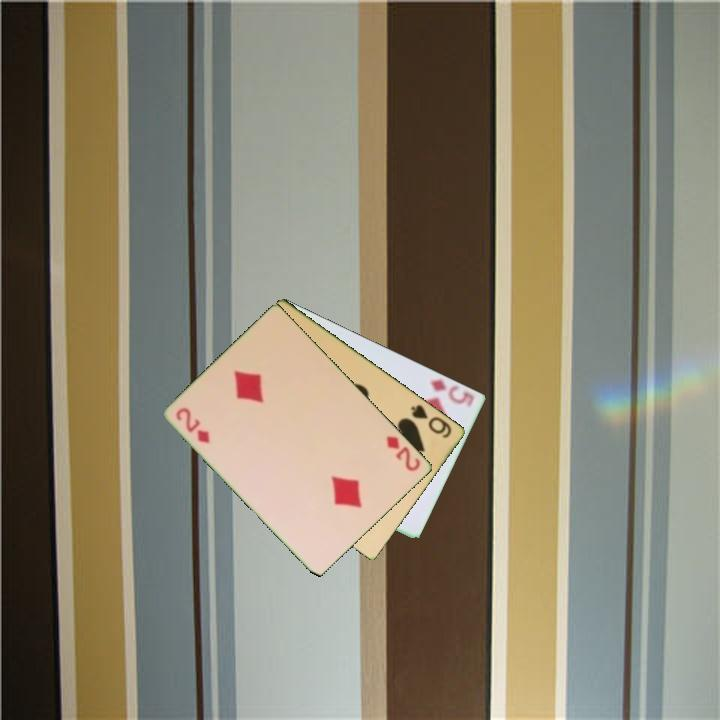2d: (383, 432, 424, 474), (172, 404, 213, 446)
5d: (426, 375, 477, 407)
6s: (408, 401, 455, 441)
